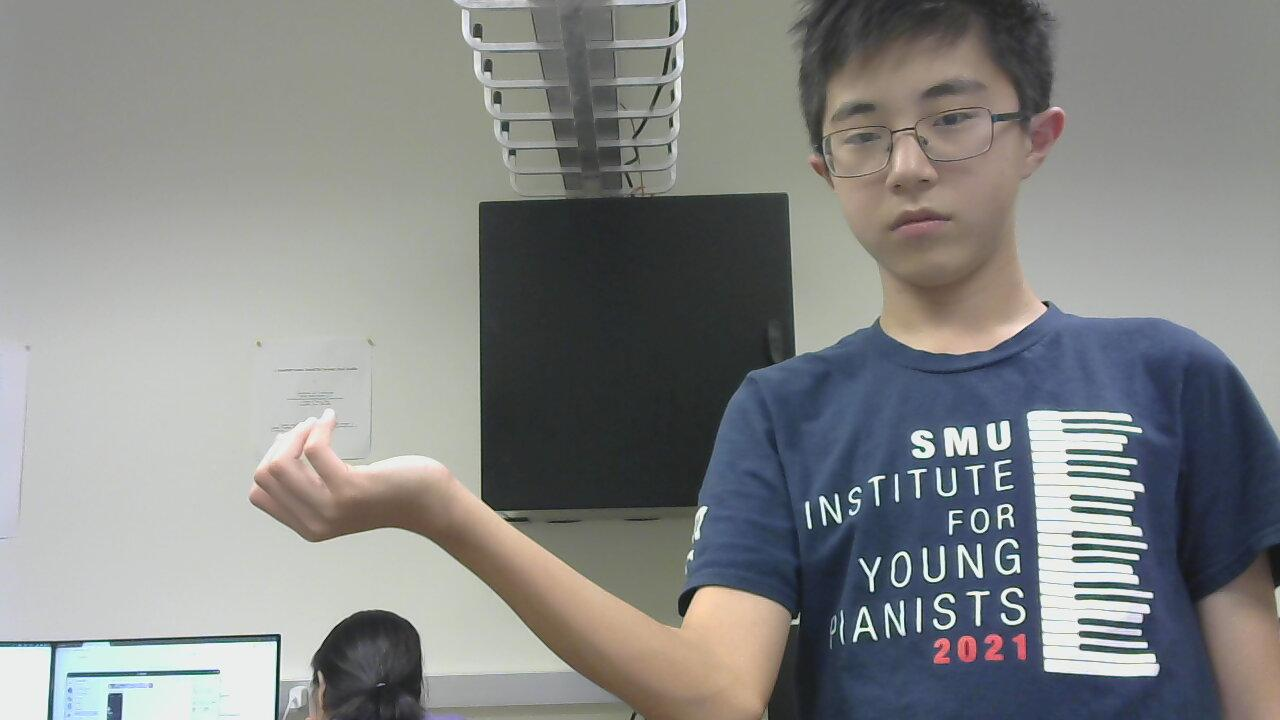hands: (236, 397, 452, 549)
